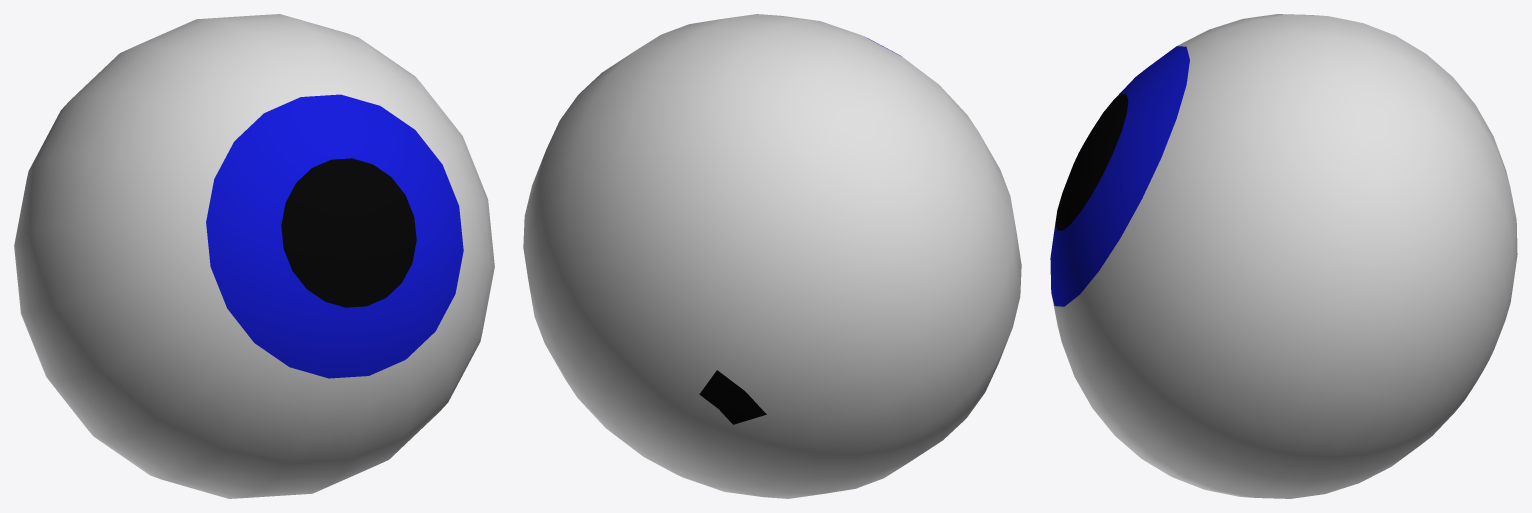
The model's file is eyeball.gltf.
3 views of the same model, side by side, from view 1: azimuth 30°, elevation 25°; view 2: azimuth 150°, elevation 25°; view 3: azimuth 270°, elevation 25° (orthographic). The views are drawn at different scales.
Parts seen in each view (by area): view 1: eyeball; view 2: eyeball; view 3: eyeball.
Boxes of the visible parts, bbox=[...] form: eyeball: bbox=[14, 14, 494, 498]; eyeball: bbox=[523, 14, 1021, 498]; eyeball: bbox=[1050, 14, 1517, 498].
Size of the model in its own units: 2.16 by 2.13 by 2.03.
